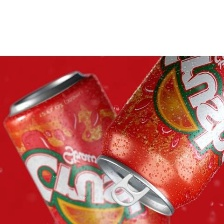can: (1, 67, 171, 224), (94, 56, 223, 217)
